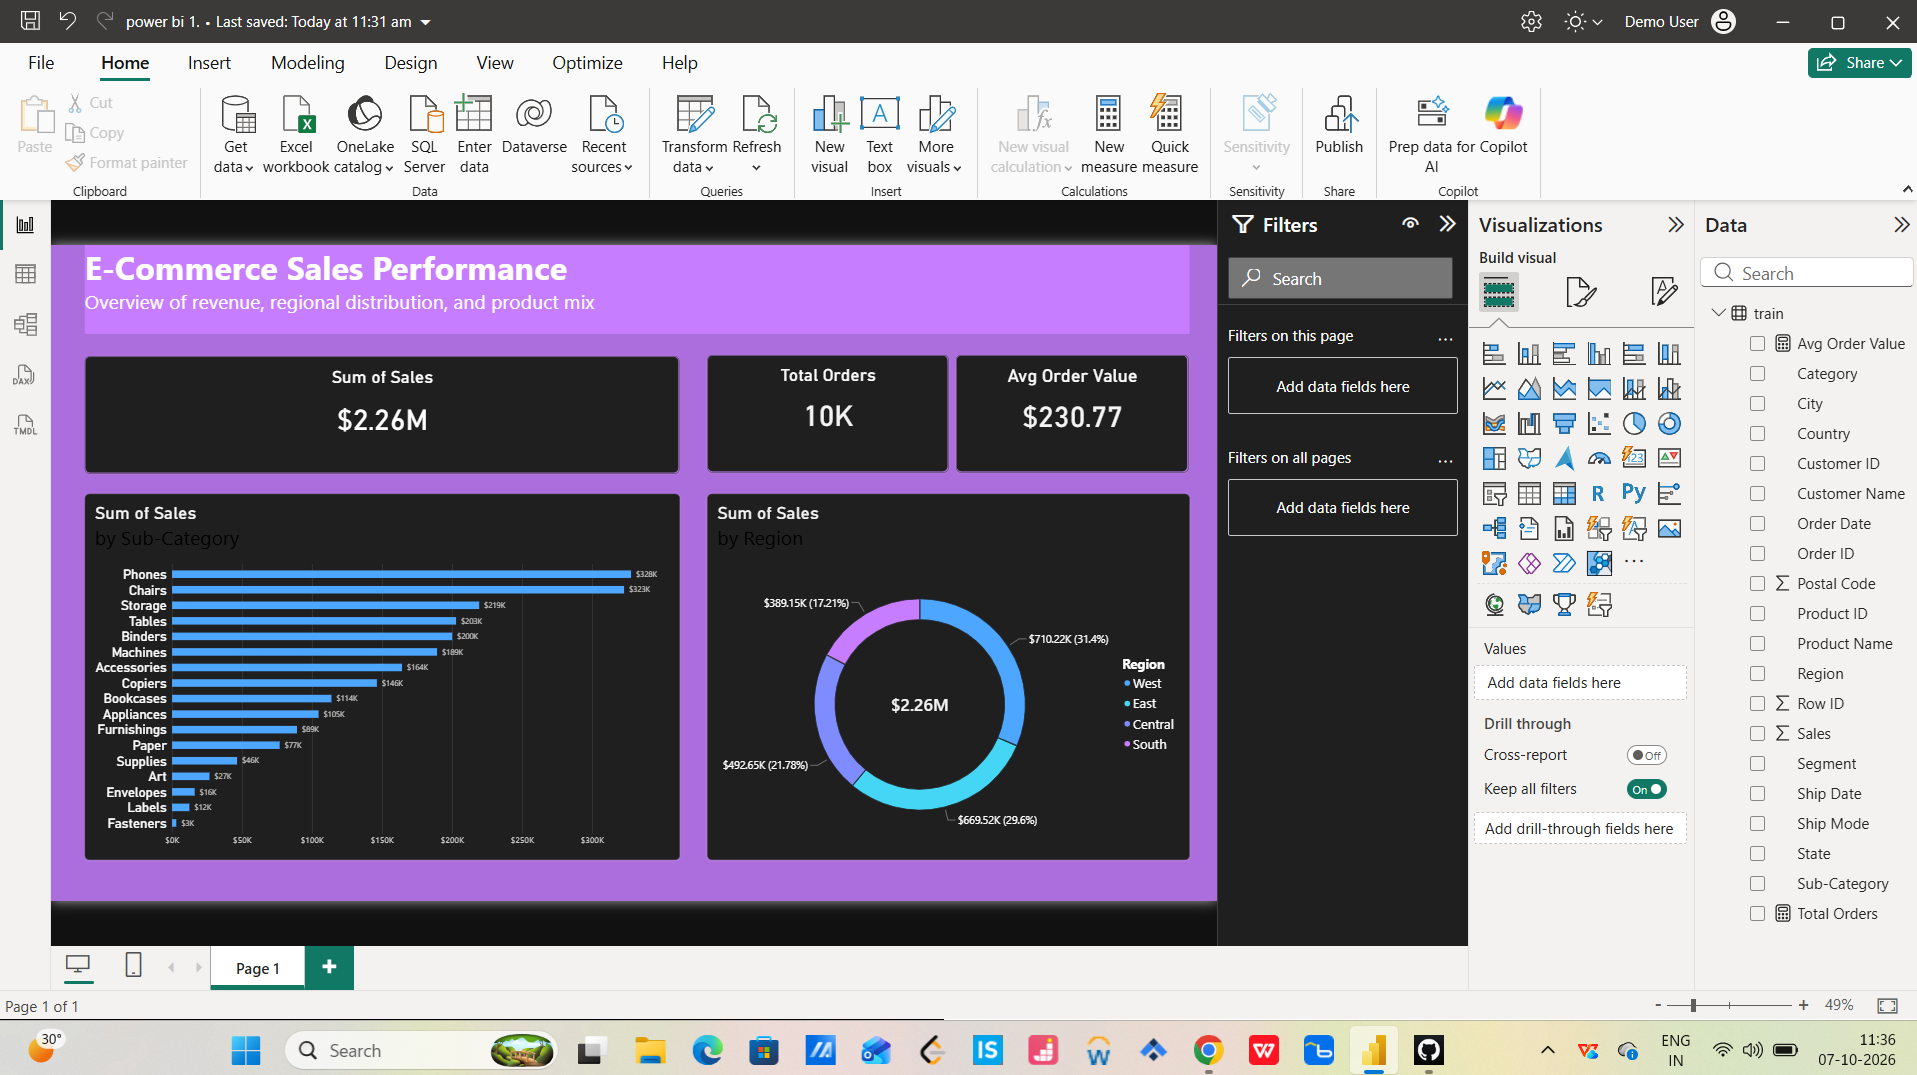

Layout of this report page (visuals, bound fields, positions):
{"tool":"powerbi","page":{"name":"Page 1","canvas":[1920,1080],"ordinal":0},"visuals":[{"type":"textbox","box":[55.6,0,1819.6,146.1],"z":0},{"type":"cardVisual","fields":{"Data":["Sum(train.Sales)"]},"box":[56.1,182.8,979,193.6],"z":1000},{"type":"cardVisual","fields":{"Data":["train.Total Orders"]},"box":[1080.6,181.1,397.3,193.5],"z":2000},{"type":"cardVisual","fields":{"Data":["train.Avg Order Value"]},"box":[1491.2,181,382.8,193.5],"z":3000},{"type":"clusteredBarChart","fields":{"Category":["train.Sub-Category","train.Category"],"Y":["Sum(train.Sales)"]},"box":[55.6,409.6,979.8,603.1],"z":4000},{"type":"donutChart","fields":{"Category":["train.Region"],"Y":["Sum(train.Sales)"]},"box":[1080.6,409.6,794.5,603.1],"z":5000}]}

Visuals, with their boxes on the page's 1920x1080 design canvas (x1, y1, x2, y2). These are canvas units, not pixel positions in the 1917x1075 screenshot, which may show the page scaled, cropped or inside an application window:
textbox: (56,0,1875,146)
cardVisual - Sum(train.Sales): (56,183,1035,376)
cardVisual - train.Total Orders: (1081,181,1478,375)
cardVisual - train.Avg Order Value: (1491,181,1874,374)
clusteredBarChart - train.Sub-Category x train.Category: (56,410,1035,1013)
donutChart - train.Region x Sum(train.Sales): (1081,410,1875,1013)
